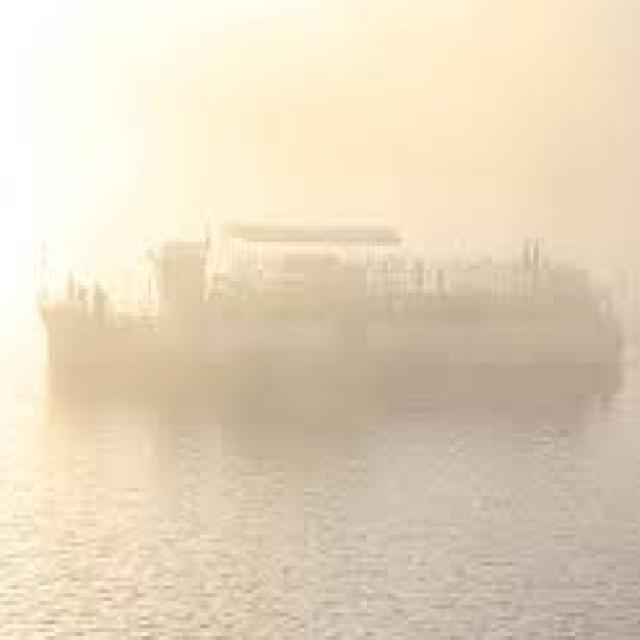fishing boat: (30, 199, 614, 412)
